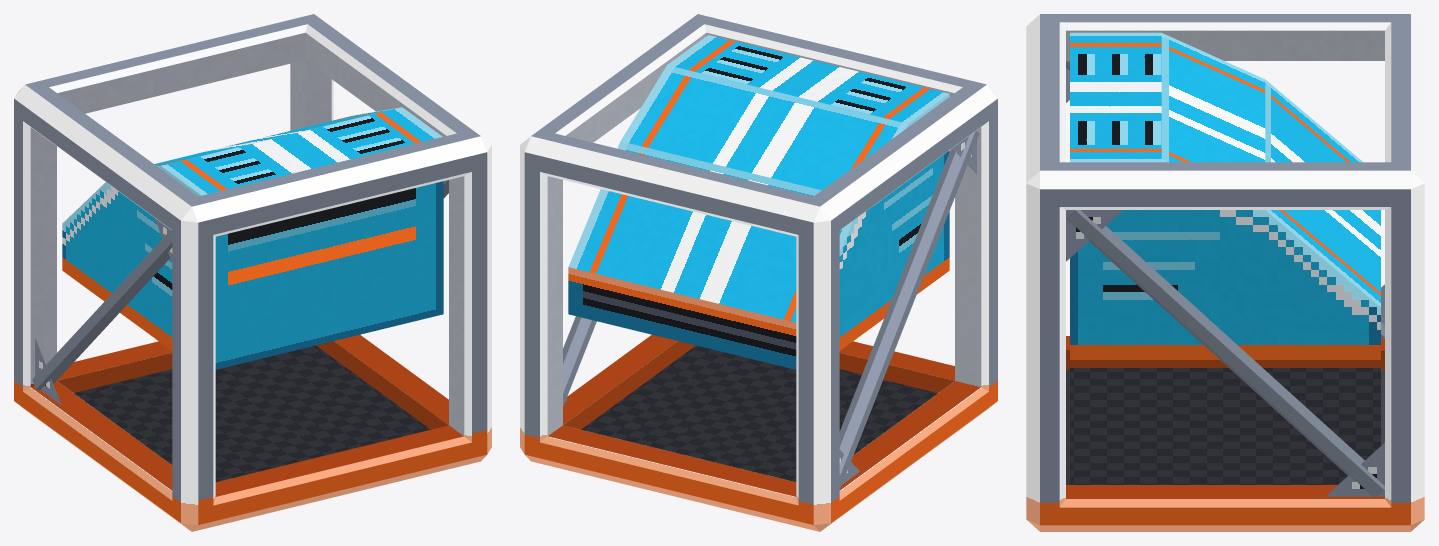
The model's file is aero_a_block.glb.
3 views of the same model, side by side, from view 1: azimuth 30°, elevation 25°; view 2: azimuth 150°, elevation 25°; view 3: azimuth 270°, elevation 25° (orthographic). The views are drawn at different scales.
Parts seen in each view (by area): view 1: aero_a_block_body; view 2: aero_a_block_body; view 3: aero_a_block_body.
Boxes of the visible parts, x1=… form: aero_a_block_body: x1=14, y1=14, x2=491, y2=531; aero_a_block_body: x1=520, y1=14, x2=997, y2=531; aero_a_block_body: x1=1026, y1=14, x2=1424, y2=531.
Bounding box in the file's own units: 1 × 1 × 1.
Materials: 1 (1 with a texture image).
